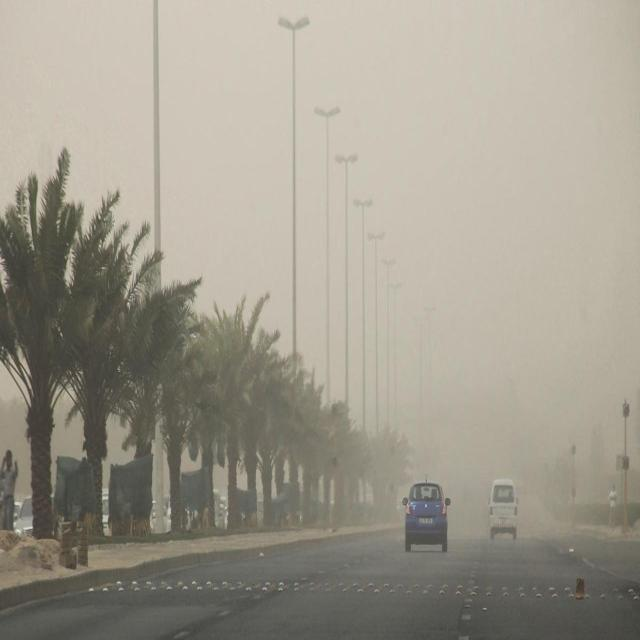Car: (397, 476, 455, 557)
Van: (487, 474, 522, 544)
